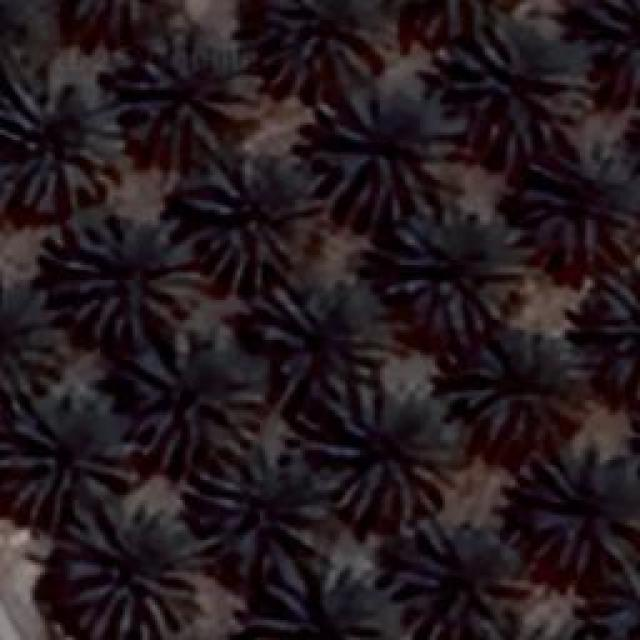PalmTree: (45, 47, 618, 113), (315, 85, 465, 225), (312, 385, 460, 525), (49, 215, 202, 343), (128, 325, 262, 465), (385, 200, 525, 332), (60, 502, 195, 638), (0, 68, 125, 210), (0, 390, 135, 520), (512, 128, 638, 262), (390, 520, 528, 638), (449, 36, 589, 149), (130, 27, 252, 155), (198, 448, 320, 572), (260, 280, 388, 398), (522, 442, 636, 570), (455, 330, 583, 438), (192, 160, 292, 292), (255, 0, 383, 85), (252, 555, 386, 635), (129, 20, 455, 47), (1, 281, 51, 404), (600, 265, 638, 390), (594, 557, 640, 640), (54, 0, 174, 25), (0, 0, 40, 67)
